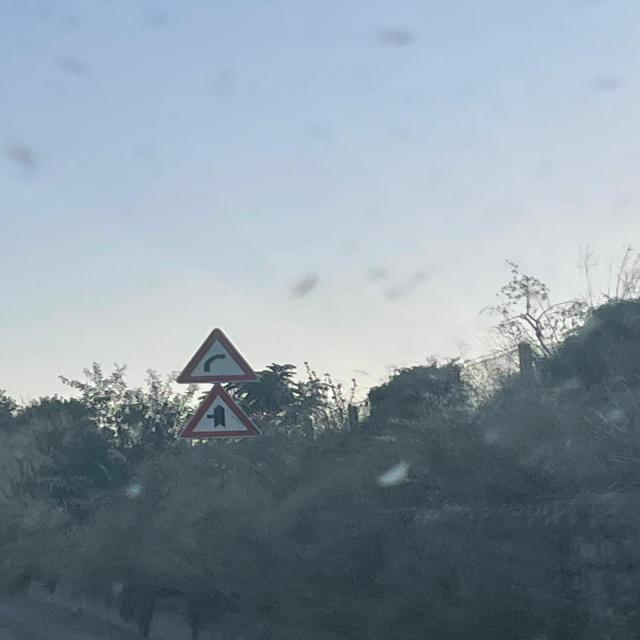warn_right_curve: (174, 327, 262, 384)
